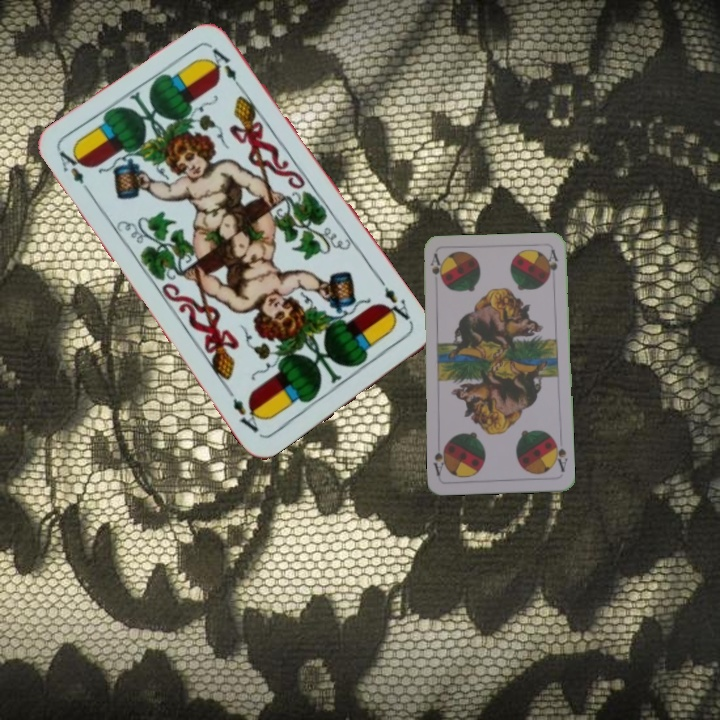EA: (55, 145, 95, 198), (378, 282, 416, 329)
SA: (550, 435, 569, 474), (426, 250, 444, 283)
